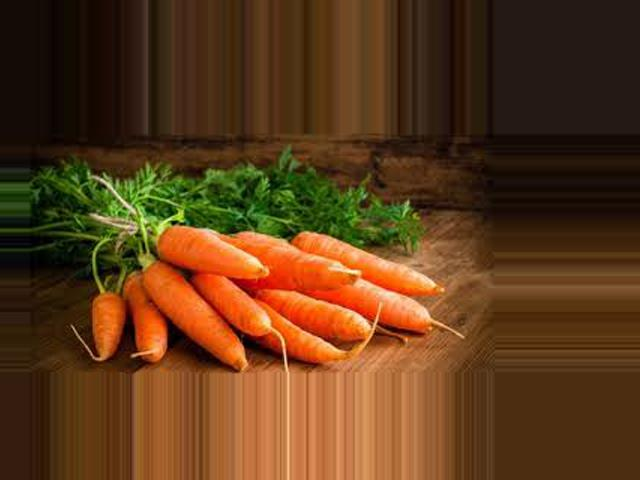carrot: (80, 279, 124, 358)
